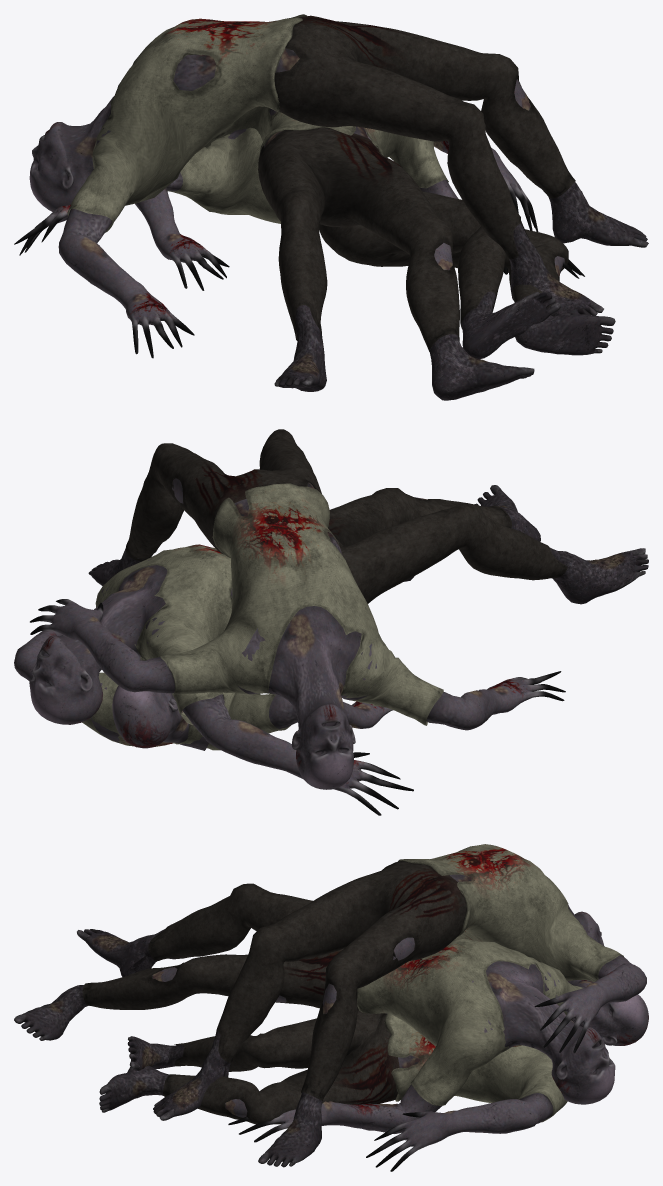
The model's file is ThreeEnemyPile.fbx.
3 views of the same model, one above another, from view 1: azimuth 30°, elevation 25°; view 2: azimuth 150°, elevation 25°; view 3: azimuth 270°, elevation 25° (orthographic). The views are drawn at different scales.
Visible parts, largest first — view 1: ENemyPile4; view 2: ENemyPile4; view 3: ENemyPile4.
Part boxes in pixels (x1,y1,x2,y2): ENemyPile4: [14, 14, 648, 400]; ENemyPile4: [14, 429, 648, 815]; ENemyPile4: [14, 844, 648, 1171].
Bounding box in the file's own units: 154 × 72.73 × 194.
